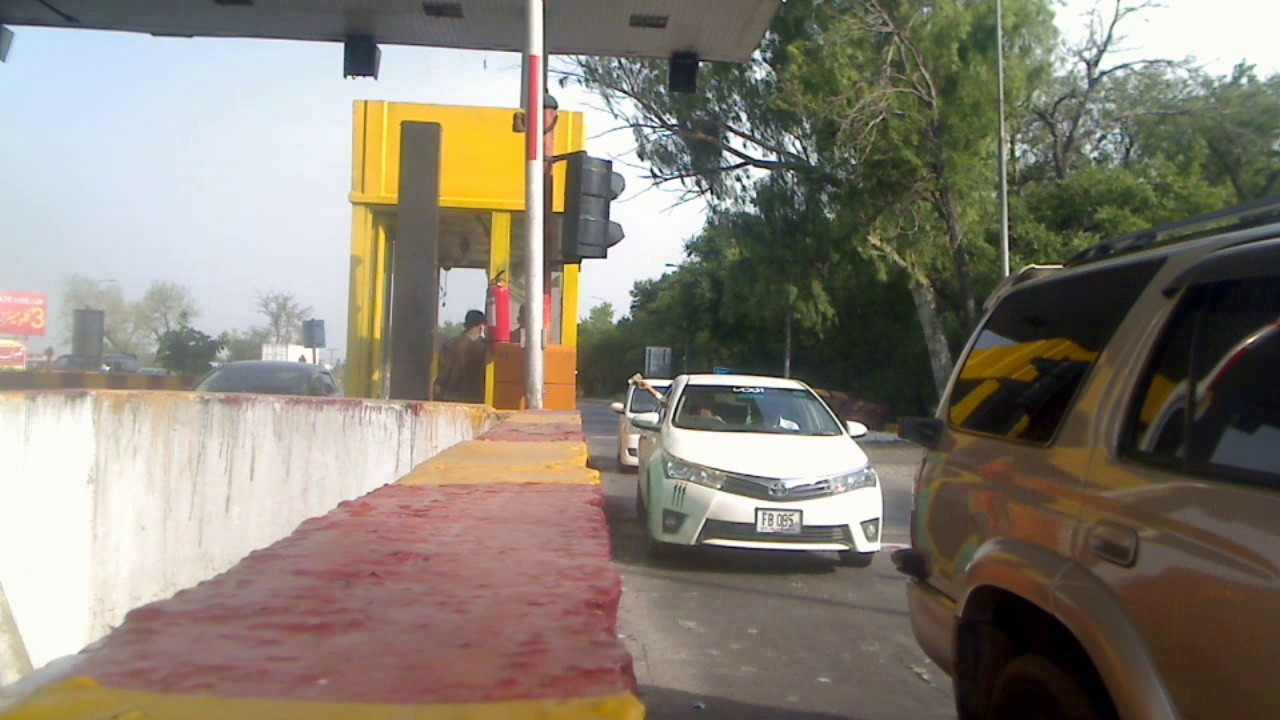Number Plate (Car): (758, 510, 800, 531)
